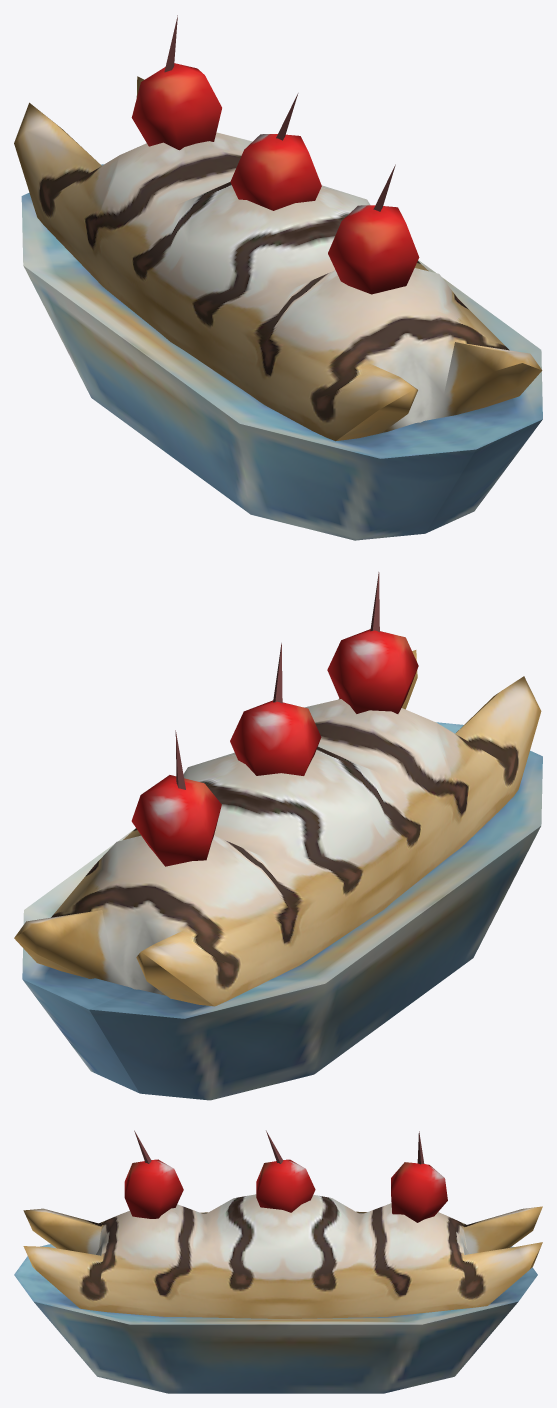
Rendered from Banana_Split.fbx.
3 renders of one model, top to bottom at view 1: azimuth 30°, elevation 25°; view 2: azimuth 150°, elevation 25°; view 3: azimuth 270°, elevation 25°, orthographic. The views are drawn at different scales.
Visible parts, largest first — view 1: Banana_Split; view 2: Banana_Split; view 3: Banana_Split.
Part boxes in pixels (x1,y1,x2,y2): Banana_Split: (14,15,542,540); Banana_Split: (14,572,542,1100); Banana_Split: (14,1130,542,1393).
Bounding box in the file's own units: 0.4551 × 0.4912 × 1.02.
